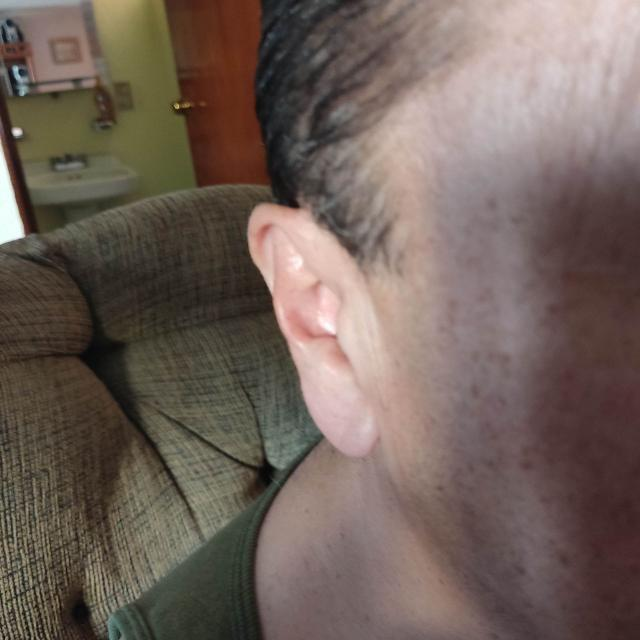ear: (248, 204, 378, 456)
